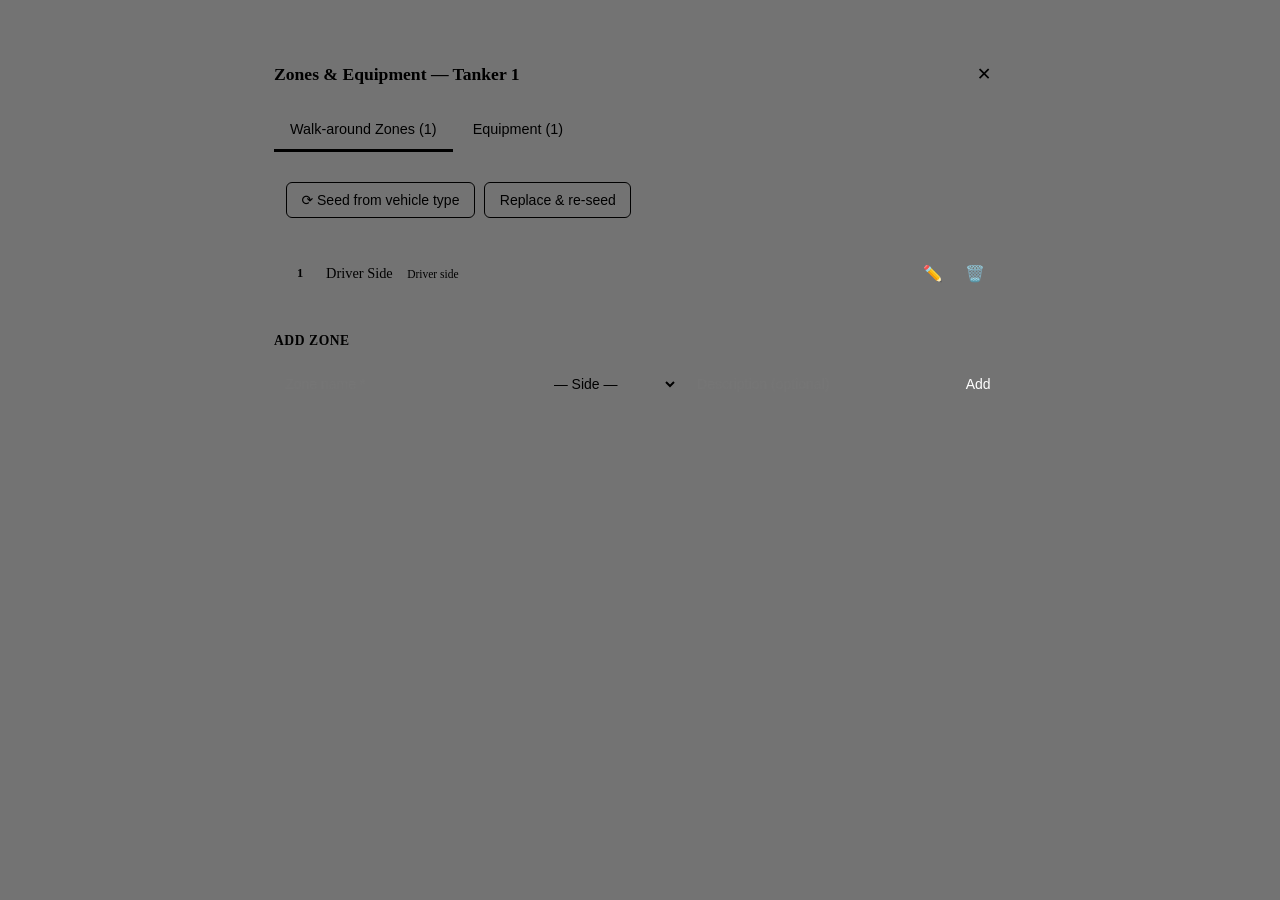
ApplianceZonesModal › shows validation error when add zone submitted with empty name
Check: the text "Driver Side" is shown, box 326,265 -> 393,282
Click the button "Add" at (978, 384), box 950,366 -> 1006,402
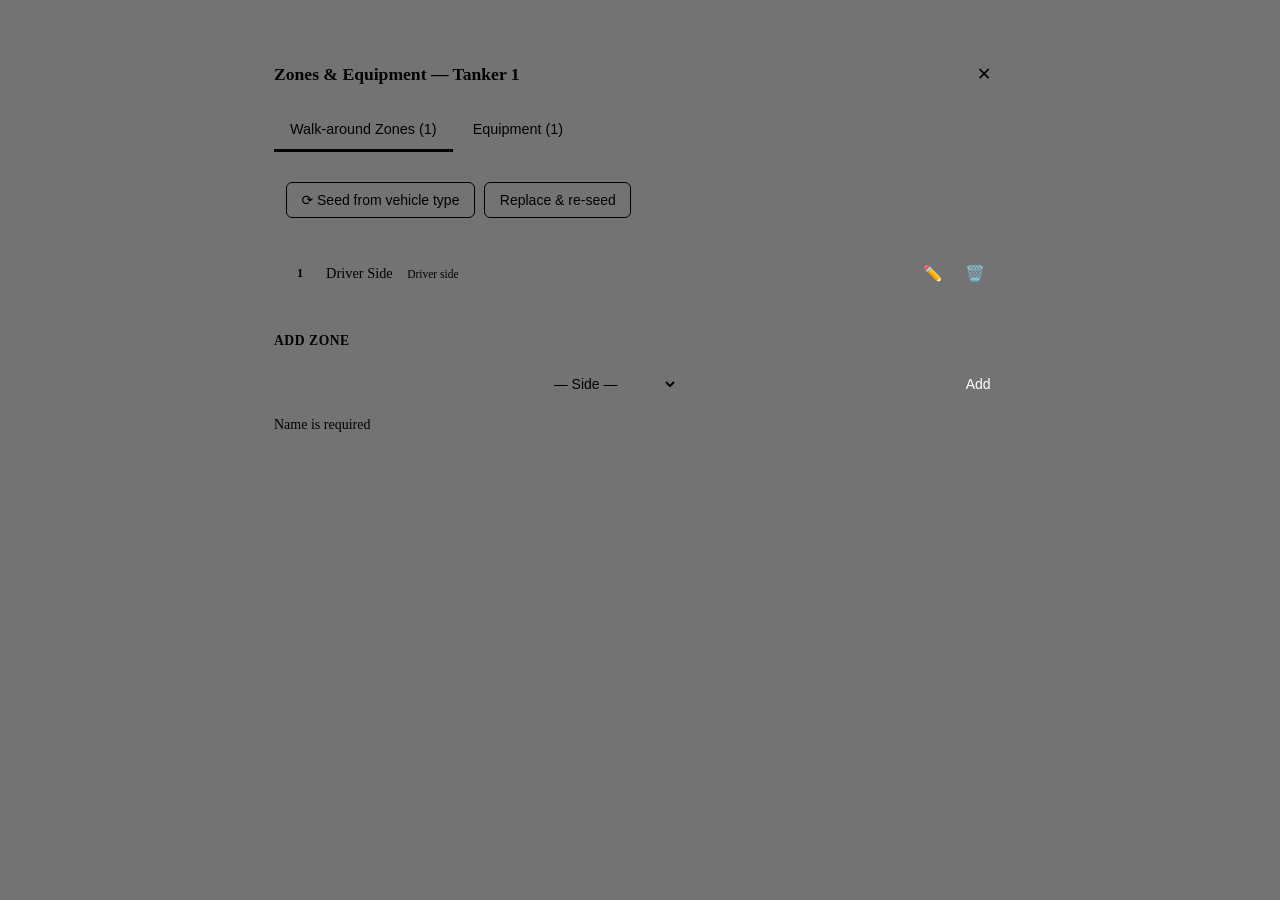
Check: the text "Name is required" is shown, box 274,417 -> 370,432
